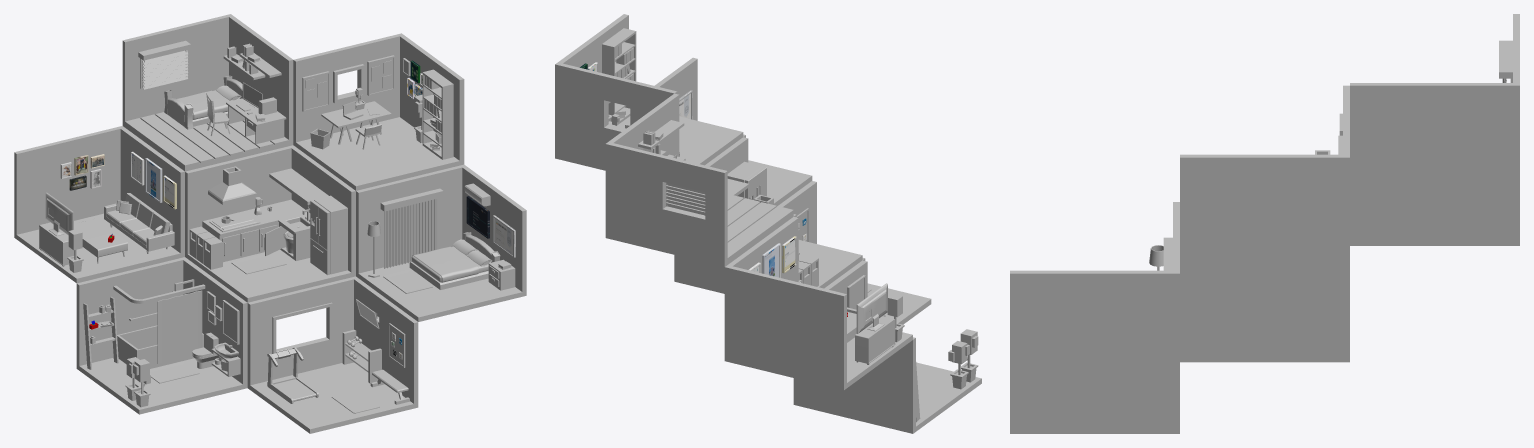
3 views of the same model, side by side, from view 1: azimuth 30°, elevation 25°; view 2: azimuth 150°, elevation 25°; view 3: azimuth 270°, elevation 25° (orthographic). The views are drawn at different scales.
Parts seen in each view (by area): view 1: Walls1, Walls2_Colors_0.001, Walls, Walls_Colors_0.003, Walls_Colors_0.002, Walls_Colors_0.001, Walls2, Curtain, Fridge, Counter_Colors_0, BookShelf, Bed (+34 smaller); view 2: Walls, Walls2, Walls2_Colors_0.001, Walls_Colors_0.003, Walls_Colors_0.001, Walls_Colors_0.002, Walls1, BookShelf, Dresser, TV, Wood_Plank7, Fridge (+6 smaller); view 3: Walls2_Colors_0.001, Walls_Colors_0.002, Walls2, Walls_Colors_0.001, Walls_Colors_0.003, Walls1, Walls, Top_Colors_0.001.
Boxes of the visible parts, x1,y1,x2,y2 form: Walls1: (247, 276, 418, 433); Walls2_Colors_0.001: (293, 33, 464, 190); Walls: (14, 126, 184, 283); Walls_Colors_0.003: (76, 257, 247, 414); Walls_Colors_0.002: (356, 164, 526, 321); Walls_Colors_0.001: (185, 145, 355, 302); Walls2: (122, 14, 293, 171); Curtain: (157, 290, 202, 363); Fridge: (310, 195, 347, 275); Counter_Colors_0: (202, 199, 310, 262); BookShelf: (422, 69, 453, 159); Bed: (164, 75, 242, 129); Walls: (724, 217, 912, 390); Walls2: (605, 93, 793, 266); Walls2_Colors_0.001: (555, 14, 743, 170); Walls_Colors_0.003: (793, 260, 981, 433); Walls_Colors_0.001: (674, 137, 862, 293); Walls_Colors_0.002: (654, 57, 812, 206); Walls1: (777, 181, 931, 324); BookShelf: (602, 28, 636, 123); Dresser: (855, 316, 895, 364); TV: (856, 283, 887, 333); Wood_Plank7: (727, 206, 793, 259); Fridge: (727, 161, 766, 199); Walls2_Colors_0.001: (1180, 85, 1349, 273); Walls_Colors_0.002: (1010, 202, 1179, 389); Walls2: (1350, 14, 1519, 201); Walls_Colors_0.001: (1180, 273, 1349, 317); Walls_Colors_0.003: (1180, 318, 1349, 362); Walls1: (1010, 389, 1179, 433); Walls: (1350, 202, 1519, 245); Top_Colors_0.001: (1499, 40, 1512, 78).
Bounding box in the file's own units: 10.95 × 8.25 × 10.95.
